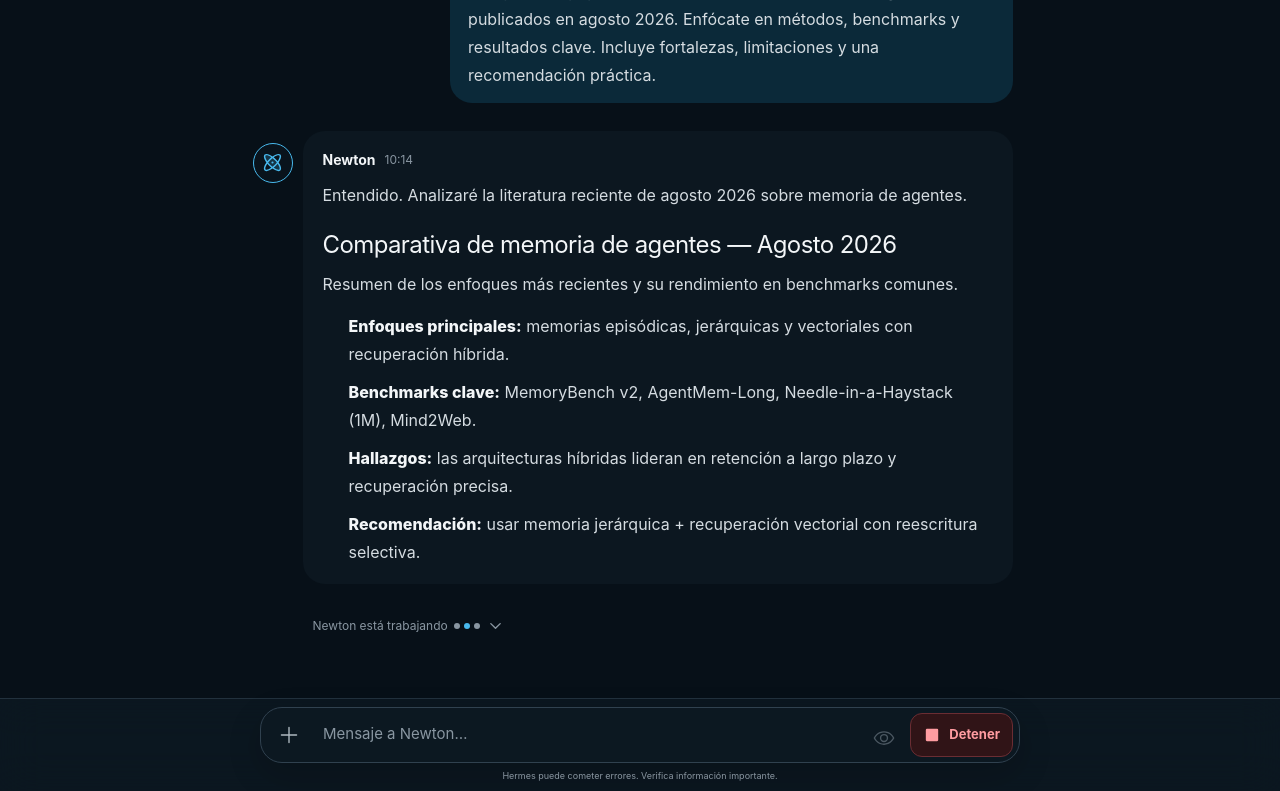
Test case: mobile-first chat › keeps typing available during a native coordinator turn and sends the draft only on an explicit action afterward
(page scrolled)
Type "Otra pregunta" into the text box labelled "Mensaje a Newton…". click: (588, 734)
box: left=318, top=712, right=858, bottom=756
Then press Enter
(page scrolled)
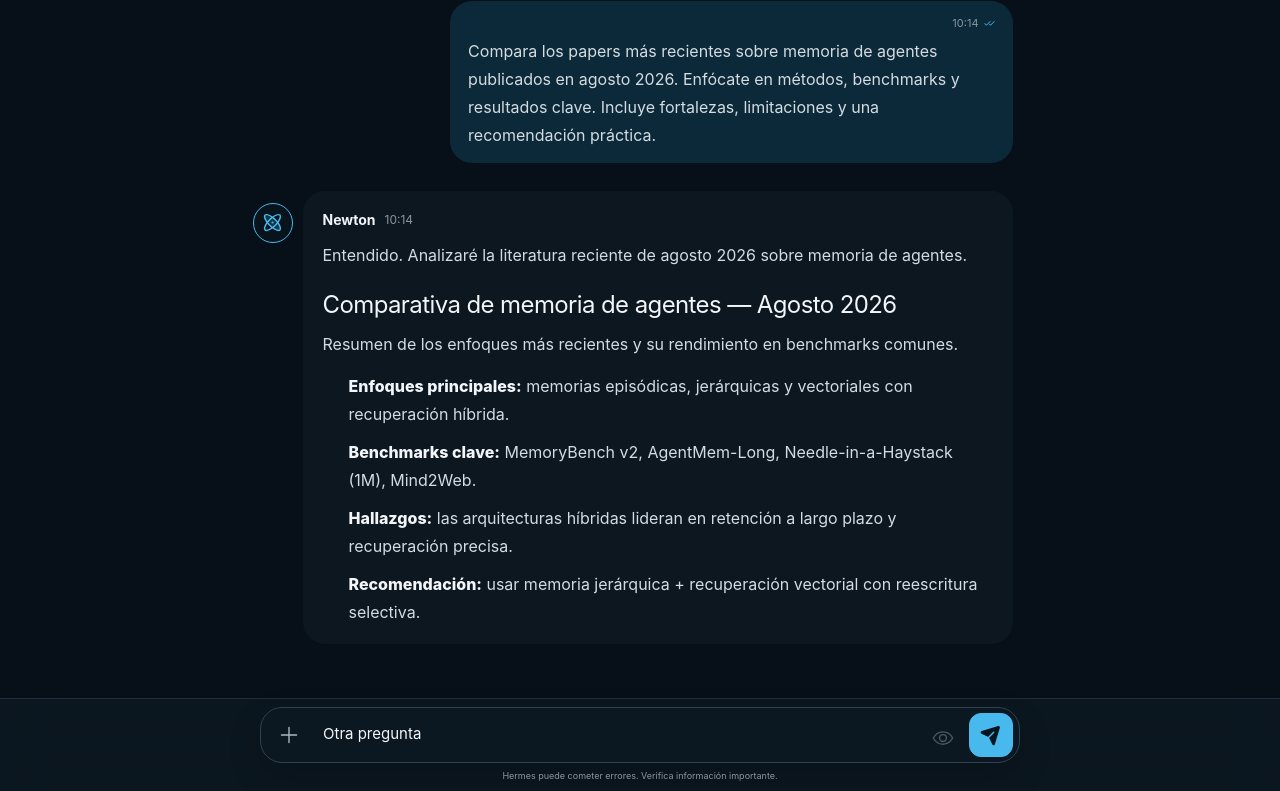
Click the button named "Enviar mensaje". click: (991, 734)
box: left=969, top=712, right=1013, bottom=756
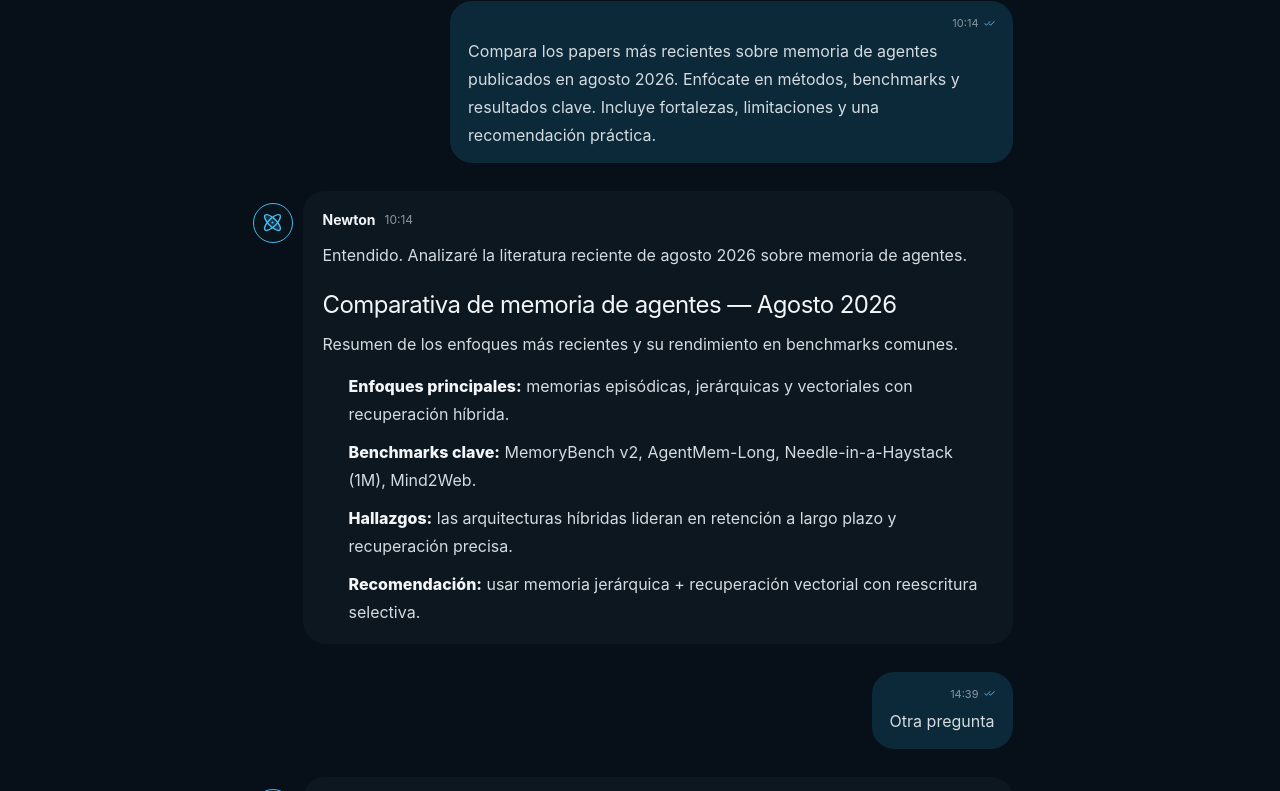
Expected: the text "Otra pregunta" is shown, left=890, top=707, right=994, bottom=735
